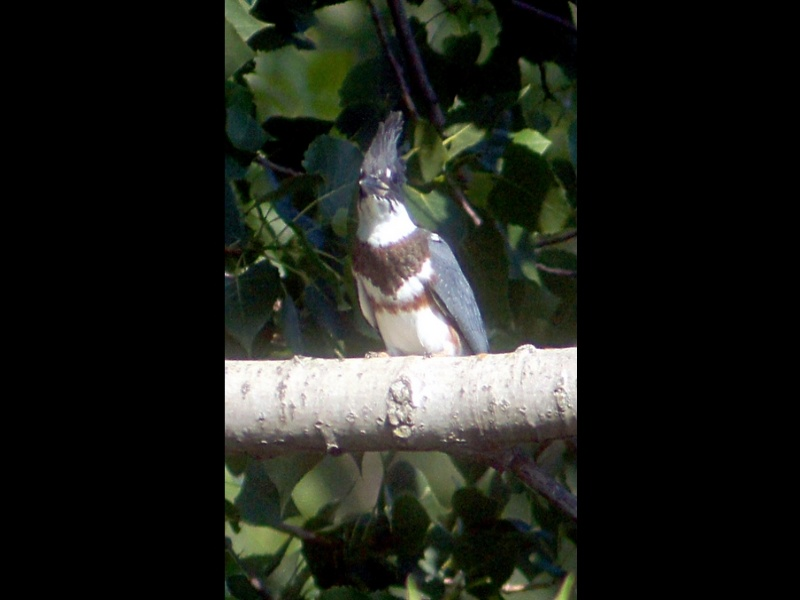kingfisher: (348, 109, 490, 361)
